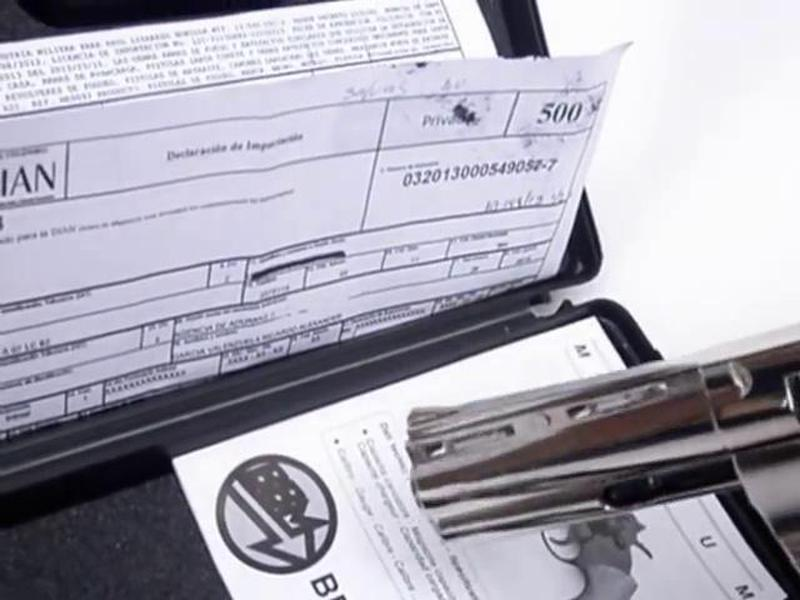Revolver: (356, 251, 800, 554)
